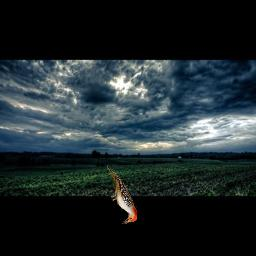Woodpecker: (107, 166, 137, 225)
